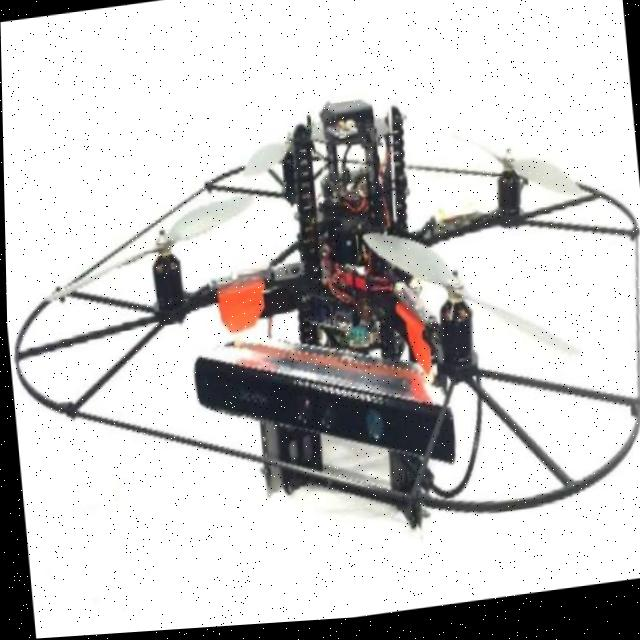drones: (1, 36, 640, 590)
